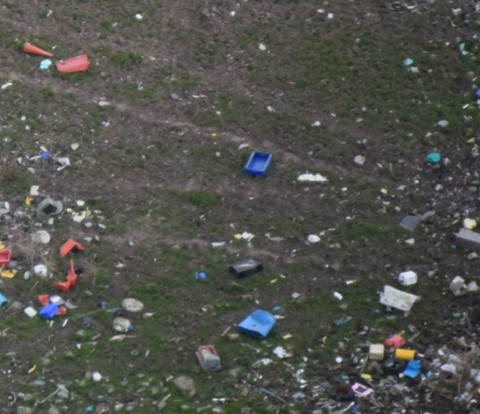scattered_barrel: (1, 24, 284, 182), (161, 136, 291, 401), (392, 33, 480, 111)
together_barrel: (292, 145, 480, 413), (1, 131, 157, 414)
